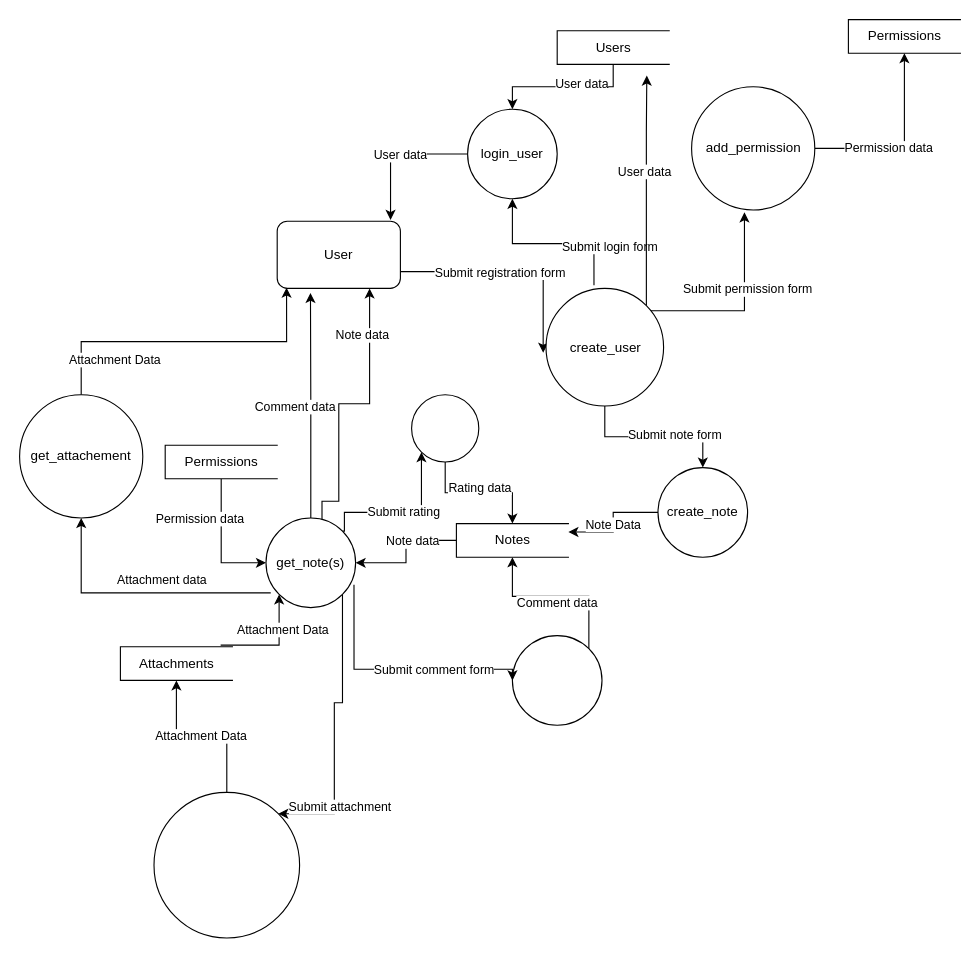
Image size: 980x958. Some labels were removed from this diagram. The box of each missing label's shape, as (x1, y1, x2, y2) in pixels:
add_attachement: (153, 791, 300, 938)
add_comment: (511, 634, 602, 725)
add_rating: (410, 394, 479, 462)
